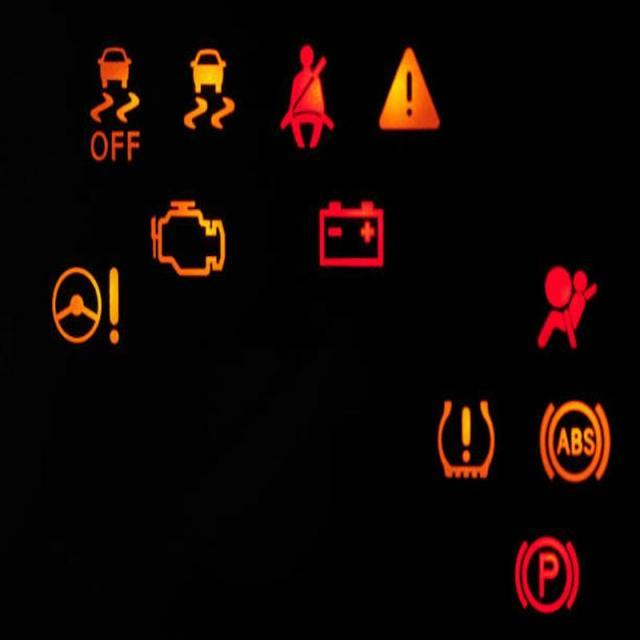BatteryWarning: (318, 200, 384, 266)
EngineWarning: (150, 200, 224, 274)
